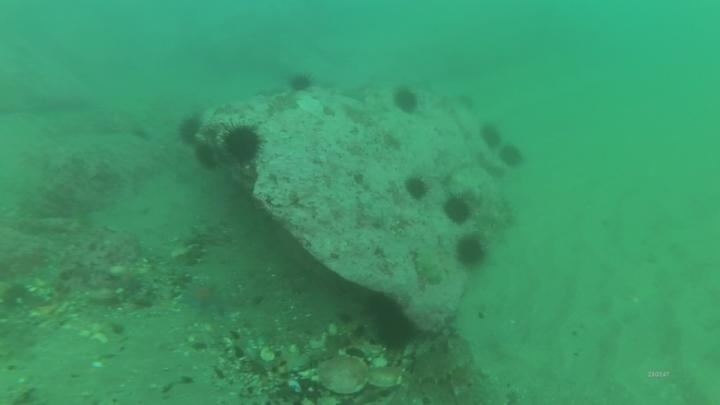echinus: (371, 307, 416, 352), (221, 121, 265, 165), (453, 234, 489, 270), (441, 193, 474, 227), (391, 85, 422, 116), (176, 113, 204, 146), (193, 141, 221, 171), (402, 174, 431, 202), (478, 121, 505, 151), (497, 143, 526, 170), (286, 70, 315, 95)
holothurian: (405, 344, 475, 388), (411, 236, 448, 288)
scallop: (314, 350, 372, 396), (360, 360, 410, 391)
starfish: (176, 278, 226, 314)
